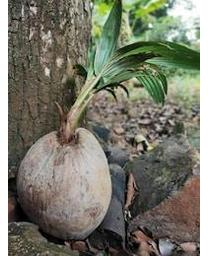coconut: (16, 118, 113, 244)
